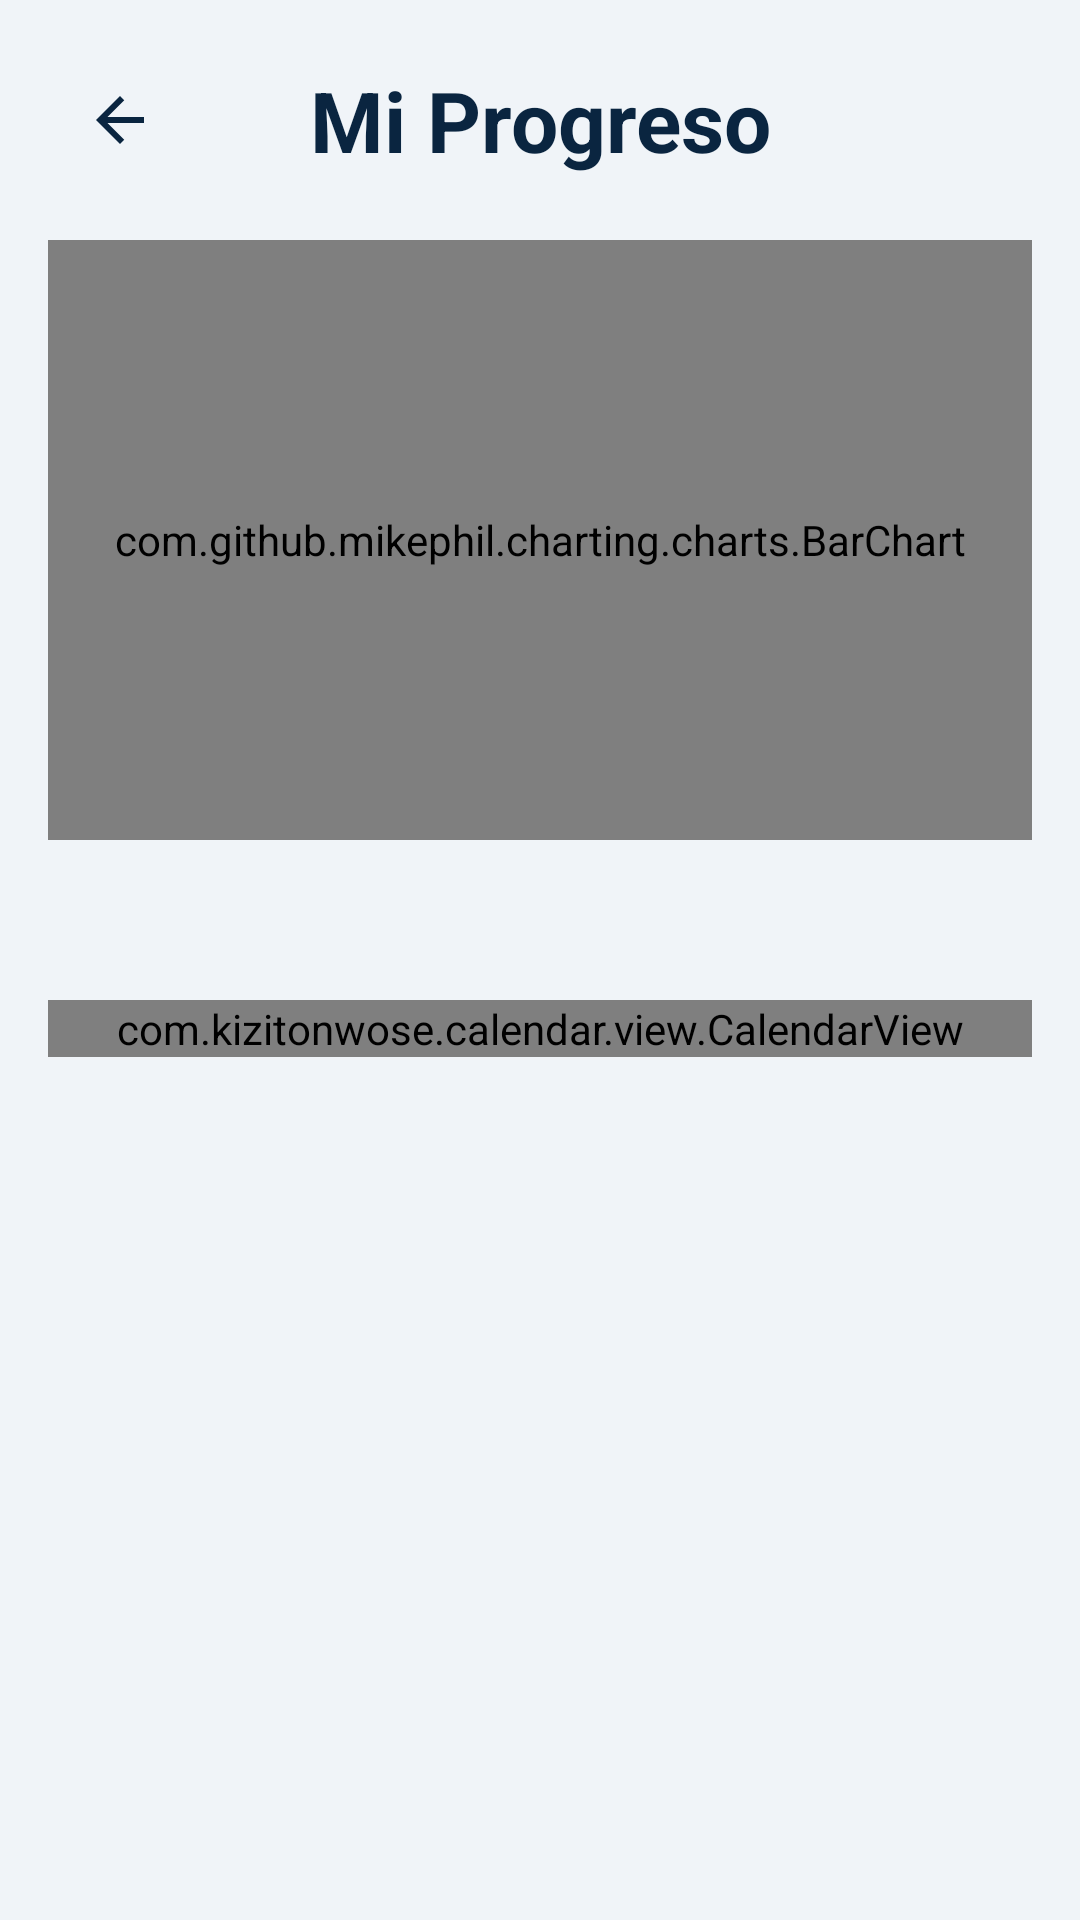

Where to tap for icons on this 1080*1920 app screen, as point (x, y):
Volver a la pantalla principal: point (120, 120)
